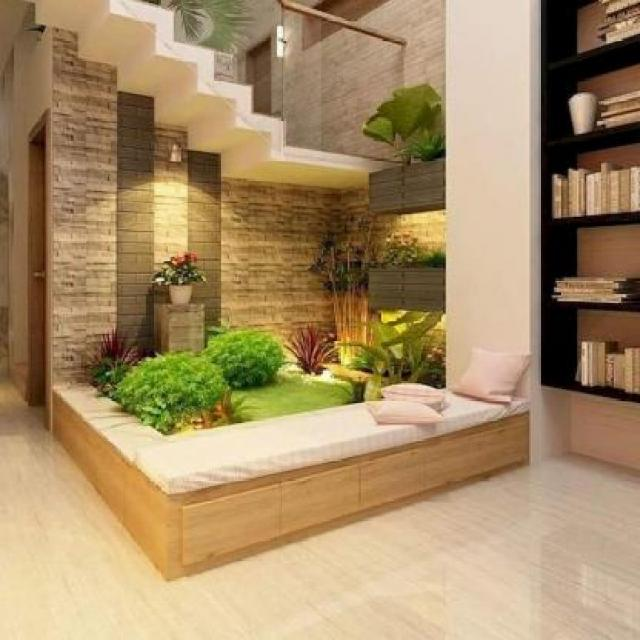Floor: (1, 376, 640, 640)
